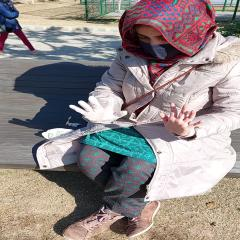gloved: (68, 97, 130, 123)
not-gloved: (158, 103, 202, 136)
